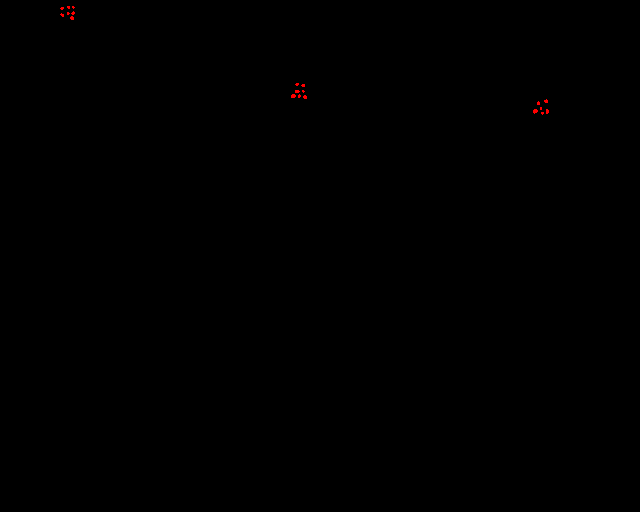Target: (533, 109, 538, 114), (291, 94, 296, 98), (71, 11, 75, 15), (60, 13, 64, 17), (70, 16, 74, 20), (303, 95, 307, 99), (544, 99, 548, 103), (295, 90, 300, 93), (546, 109, 549, 114), (60, 7, 64, 10), (295, 83, 299, 86), (301, 84, 305, 87), (298, 94, 301, 98), (537, 101, 540, 105), (67, 6, 70, 9), (72, 6, 75, 9), (67, 12, 70, 15), (302, 90, 305, 93), (541, 112, 544, 115), (540, 107, 542, 110)
